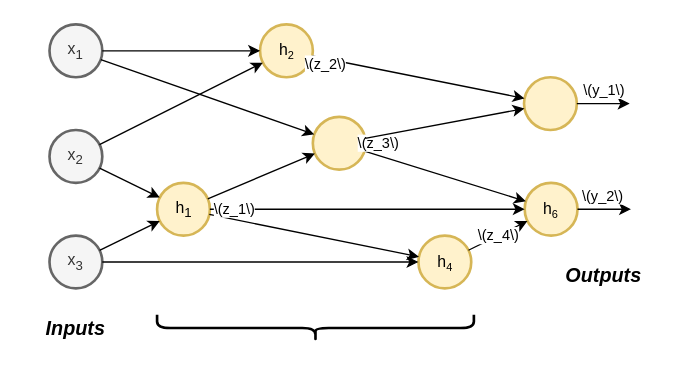
The diagram is 678 pixels wide and 389 high, and some of its shapes have lost their labels. Here are the shapes that lost their labels. From the top down, the centre of each, then its label:
At [550,103]: "h 5".
At [338,142]: "h 3".
At [315,327]: "Hidden Units".
